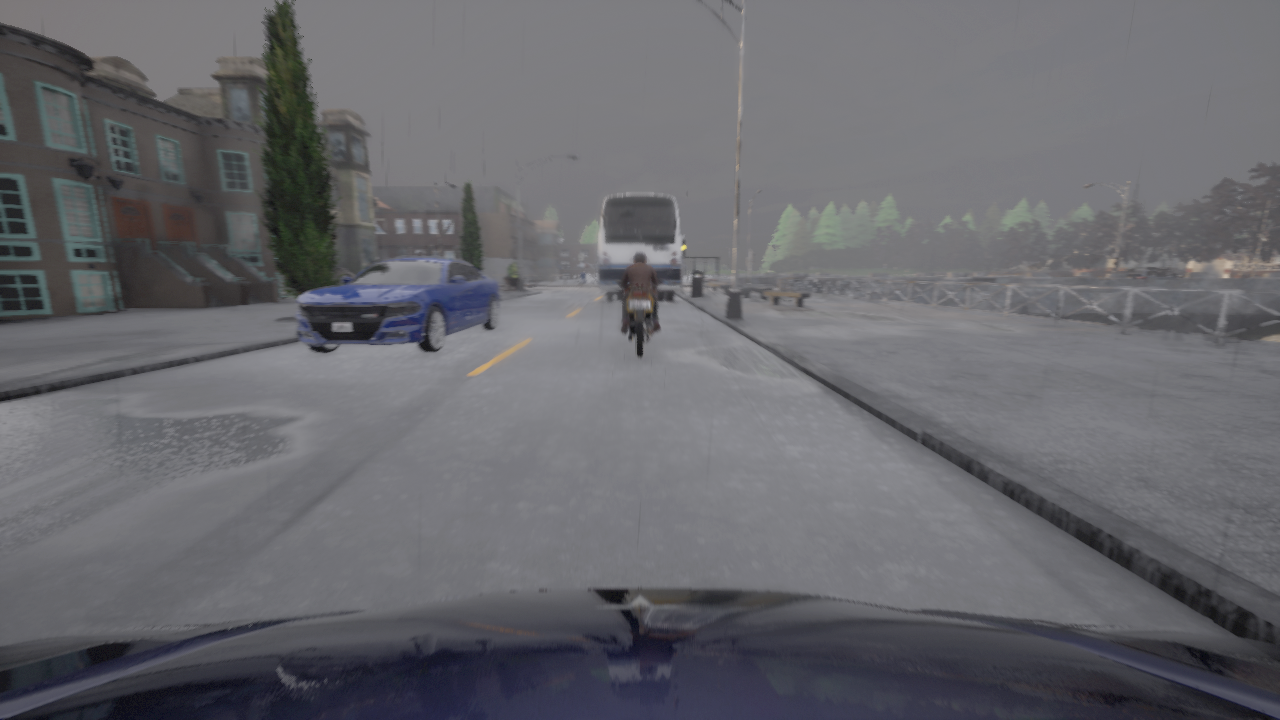cyclist: (0, 588, 1279, 719), (296, 256, 500, 352), (599, 193, 680, 300), (616, 280, 663, 357), (1125, 268, 1183, 278)
